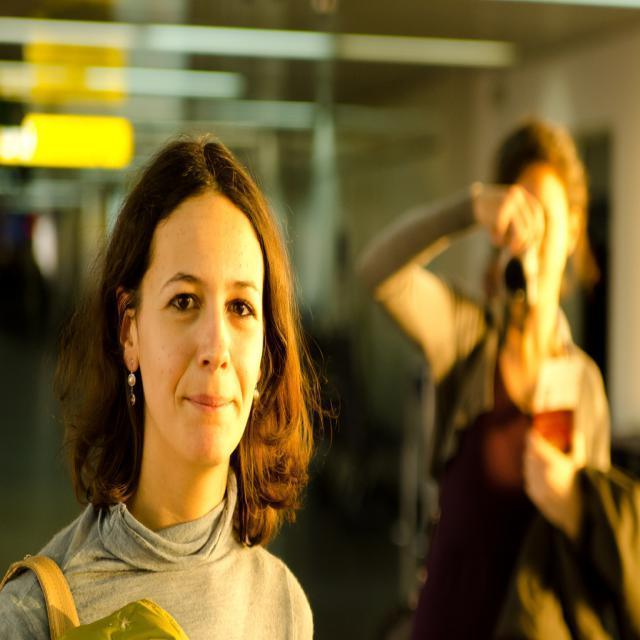closed-mouth: (183, 394, 235, 413)
